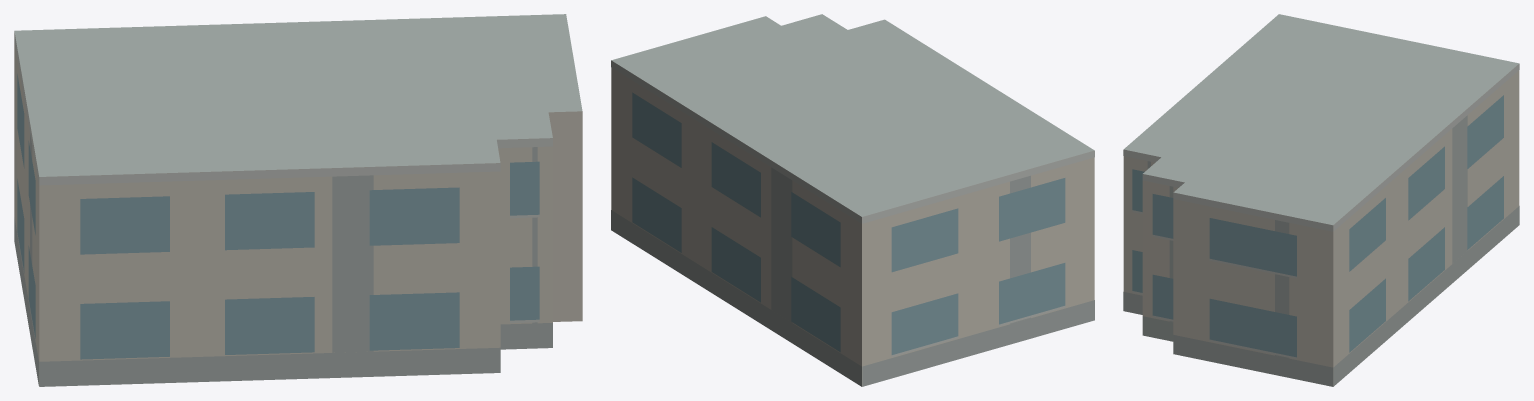
File: residential-902ebc10-fd5e-4e54-a54e-f9b566231100.glb
3 renders of one model, left to right at view 1: azimuth 30°, elevation 25°; view 2: azimuth 150°, elevation 25°; view 3: azimuth 270°, elevation 25°, orthographic. The views are drawn at different scales.
Visible parts, largest first — view 1: residential-902ebc10-fd5e-4e54-a54e-f9b566231100.tmp; view 2: residential-902ebc10-fd5e-4e54-a54e-f9b566231100.tmp; view 3: residential-902ebc10-fd5e-4e54-a54e-f9b566231100.tmp.
Boxes of the visible parts, <box> form: residential-902ebc10-fd5e-4e54-a54e-f9b566231100.tmp: <box>14,14,582,386</box>; residential-902ebc10-fd5e-4e54-a54e-f9b566231100.tmp: <box>611,14,1094,386</box>; residential-902ebc10-fd5e-4e54-a54e-f9b566231100.tmp: <box>1123,14,1519,386</box>.
Size of the model in its own units: 16.83 by 6 by 13.34.
